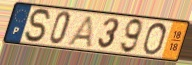0: (49, 10, 73, 47)
3: (96, 17, 120, 50)
9: (119, 17, 144, 55)
A: (66, 15, 94, 49)
O: (141, 22, 168, 56)
S: (24, 8, 54, 44)
